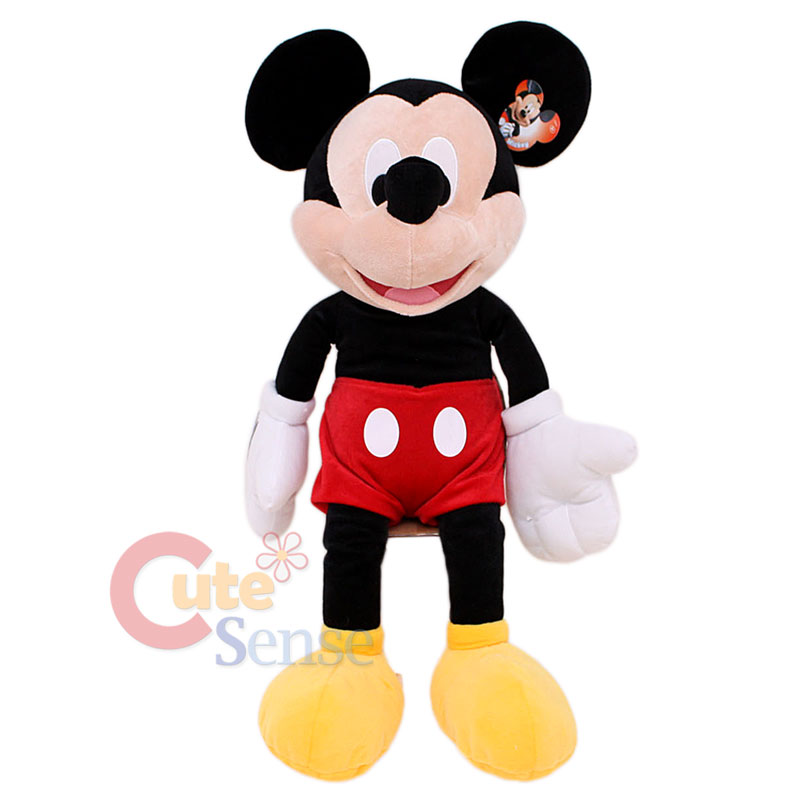Mickey: (244, 19, 594, 318)
